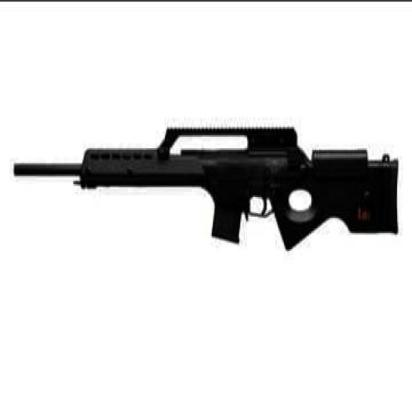Gun: (9, 119, 400, 248)
